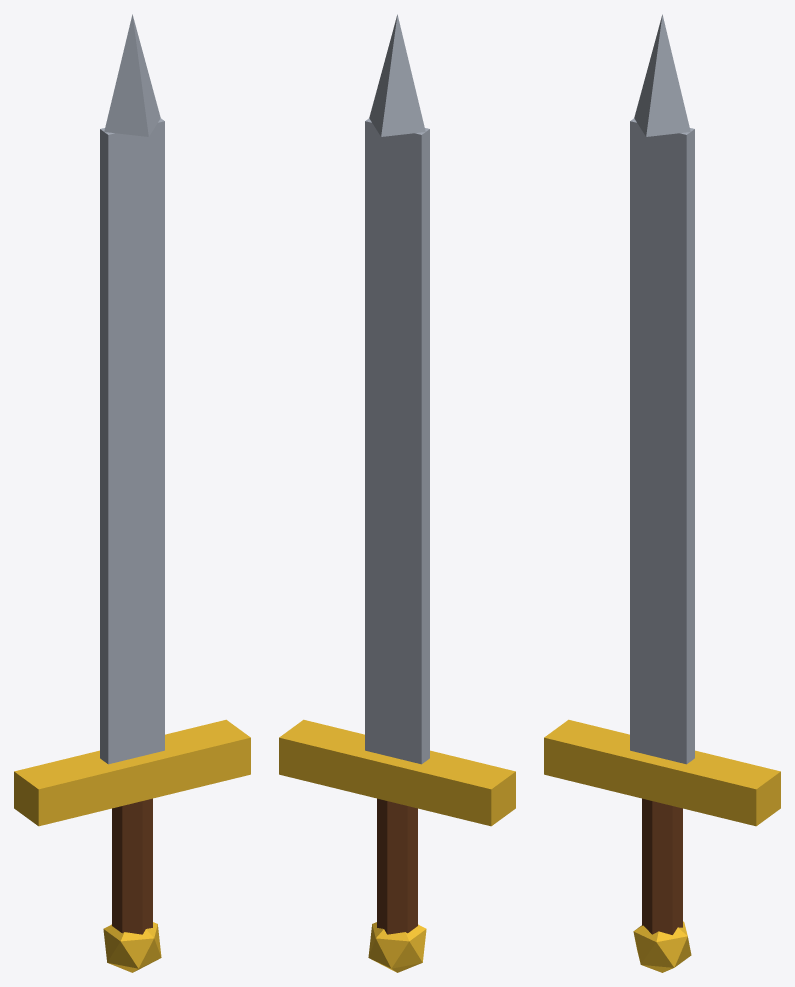
Rendered from sword.glb.
The picture shows the model from 3 angles, left to right: view 1: azimuth 30°, elevation 25°; view 2: azimuth 150°, elevation 25°; view 3: azimuth 330°, elevation 25°; orthographic projection.
Visible parts, largest first — view 1: sword; view 2: sword; view 3: sword.
Part boxes in pixels (x1=…): sword: x1=14, y1=14, x2=250, y2=972; sword: x1=279, y1=14, x2=515, y2=972; sword: x1=544, y1=14, x2=780, y2=972.
Bounding box in the file's own units: 0.3 × 1.3 × 0.08.
